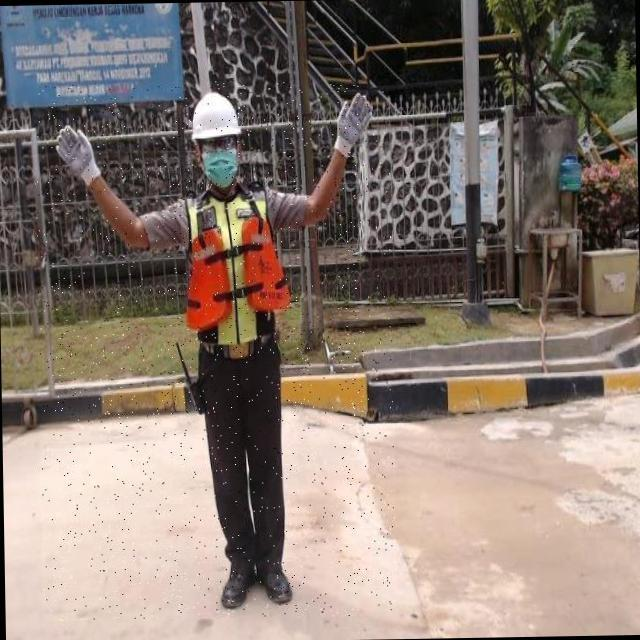Helmet: (189, 93, 244, 141)
Human: (33, 78, 397, 621)
Safety Boot: (219, 554, 258, 612), (257, 559, 295, 610)
Safety Vest: (186, 188, 292, 346)
